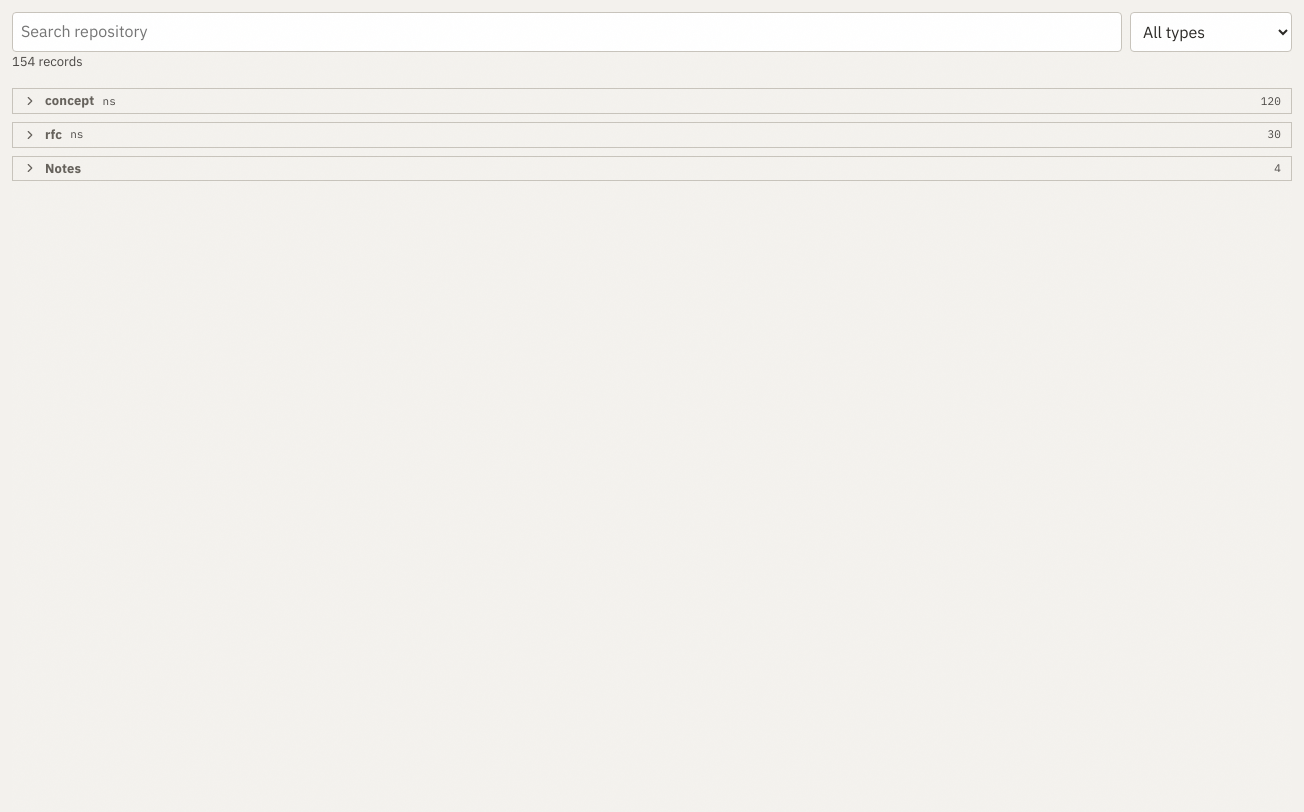
RecordsExplorer › debounces search, ranks it, and reads N results
Step 1. Type "ab" into the field named "Search records" → coordinates (567, 32), box x1=12 y1=12 x2=1122 y2=52
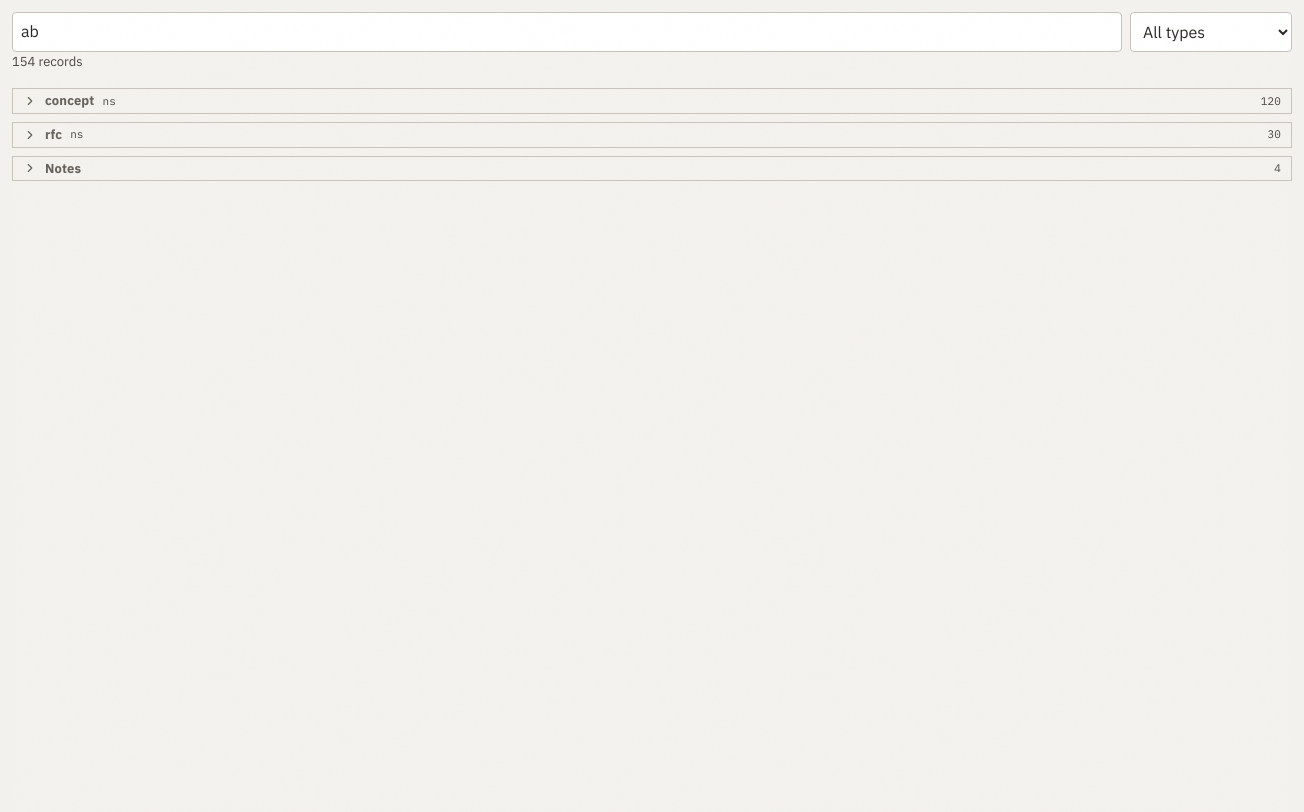
Step 2. Replace the text in the field named "Search records" with "abc" → coordinates (567, 32), box x1=12 y1=12 x2=1122 y2=52
Wait 250 ms
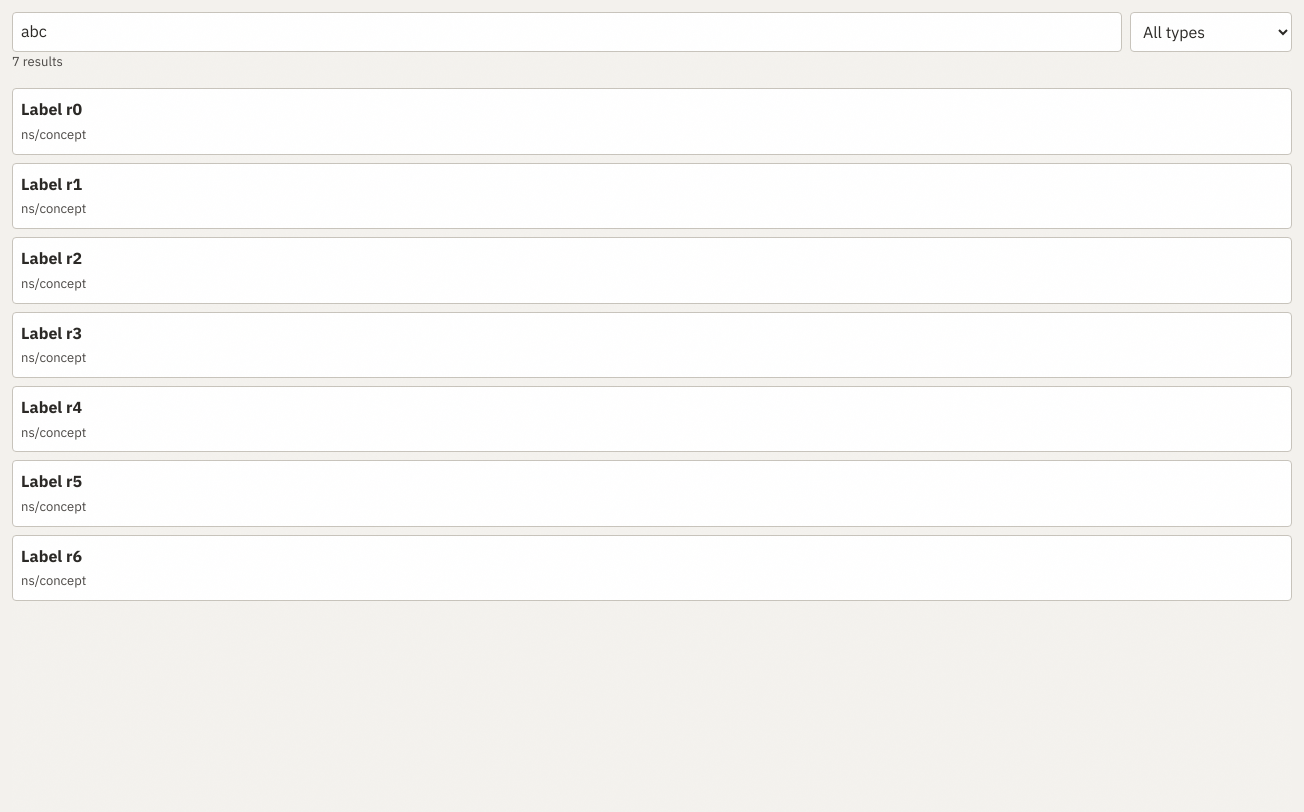
Check: the text "7 results" is shown, box x1=12 y1=53 x2=63 y2=70
Check: no elements with test id "record-group" are shown
